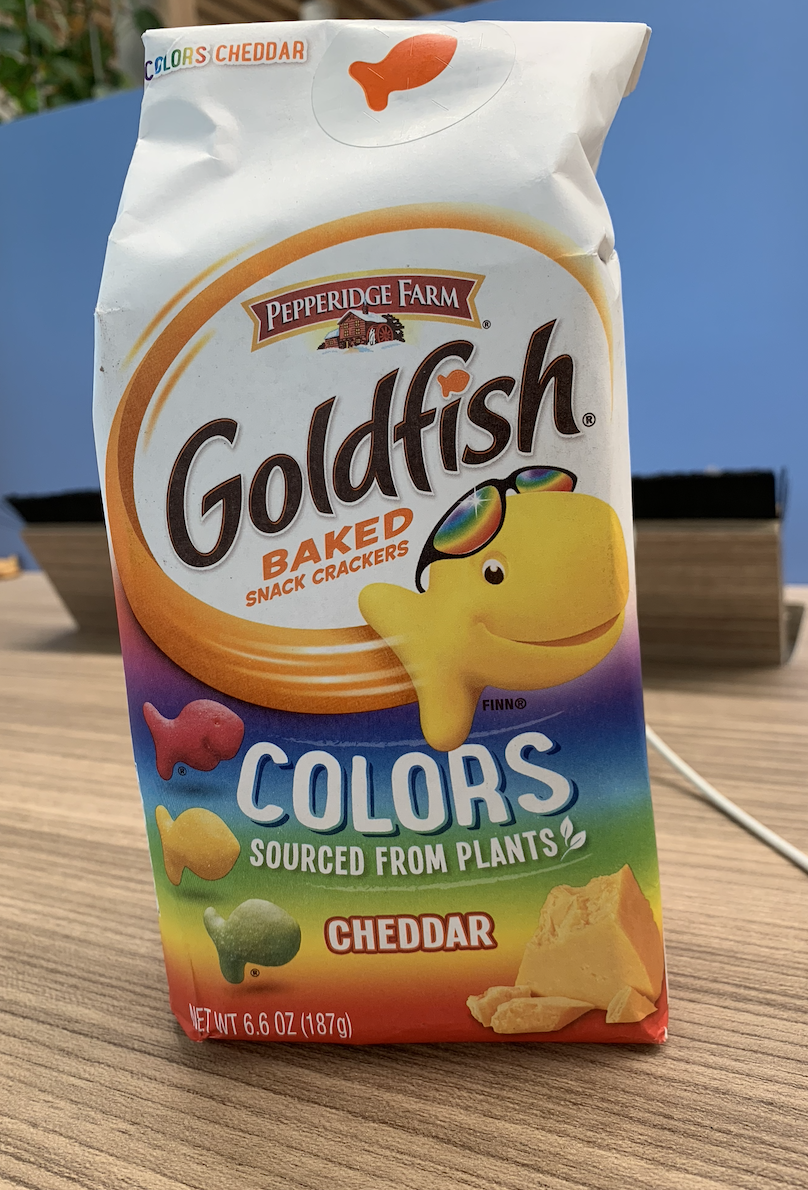crackers_150g: (158, 41, 656, 1041)
